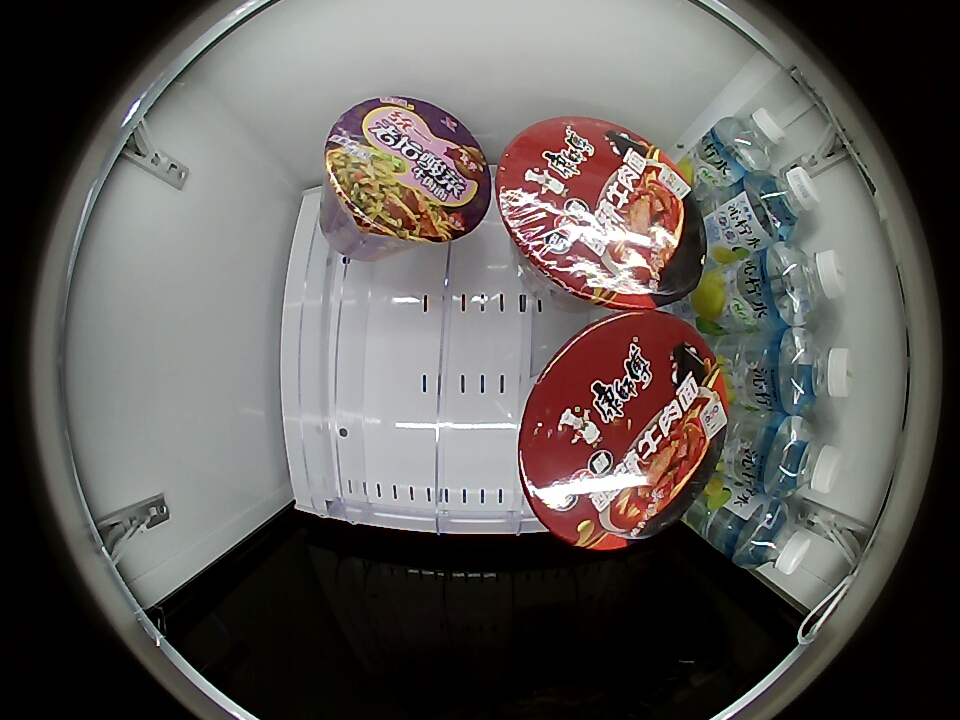laotansuancai: (324, 95, 492, 246)
qinningshui: (776, 327, 854, 414), (760, 416, 843, 497), (765, 243, 846, 326), (729, 498, 813, 576), (746, 166, 820, 241), (716, 108, 787, 173)
suanlaniurou: (517, 312, 731, 549), (494, 117, 707, 309)
